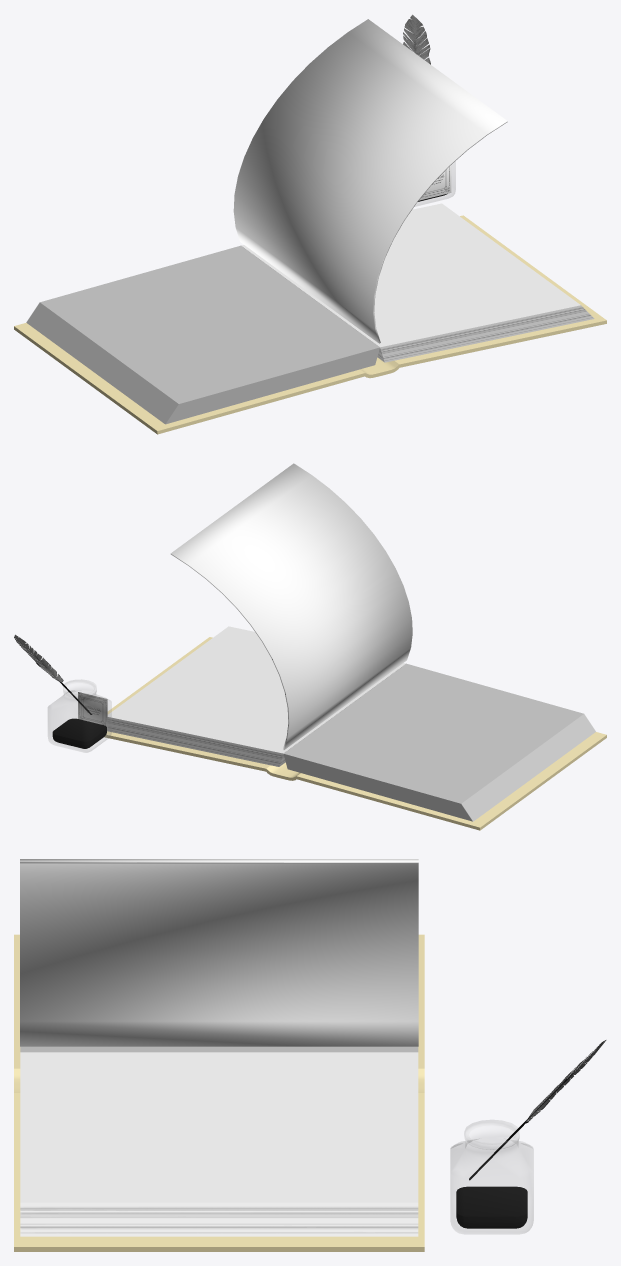
Rendered from setumeinoyatu.fbx.
3 views of the same model, one above another, from view 1: azimuth 30°, elevation 25°; view 2: azimuth 150°, elevation 25°; view 3: azimuth 270°, elevation 25° (orthographic). The views are drawn at different scales.
Parts seen in each view (by area): view 1: Cube.006, Cube.003, Cube, Cube.002, Cube.004, Plane.002; view 2: Cube.006, Cube.003, Cube, Cube.002, Cube.004, Cube.005, Plane.002; view 3: Cube.006, Cube, Cube.002, Cube.004, Cube.005, Cube.003, Plane.002.
Boxes of the visible parts, bbox=[...] form: Cube.006: bbox=[233, 19, 507, 343]; Cube.003: bbox=[26, 245, 379, 424]; Cube: bbox=[241, 203, 594, 362]; Cube.002: bbox=[14, 215, 606, 434]; Cube.004: bbox=[415, 161, 455, 206]; Plane.002: bbox=[403, 14, 430, 64]; Cube.006: bbox=[170, 463, 412, 749]; Cube.003: bbox=[283, 663, 595, 821]; Cube: bbox=[107, 626, 405, 766]; Cube.002: bbox=[104, 637, 606, 830]; Cube.004: bbox=[48, 679, 111, 752]; Cube.005: bbox=[52, 718, 106, 748]; Plane.002: bbox=[14, 634, 92, 714]; Cube.006: bbox=[20, 859, 418, 1046]; Cube: bbox=[20, 1052, 418, 1236]; Cube.002: bbox=[14, 934, 424, 1251]; Cube.004: bbox=[450, 1120, 533, 1234]; Cube.005: bbox=[456, 1186, 527, 1228]; Cube.003: bbox=[20, 1046, 418, 1052]; Plane.002: bbox=[469, 1040, 606, 1180].
Size of what is drawn, in the model's own units: 329 by 152 by 252.
